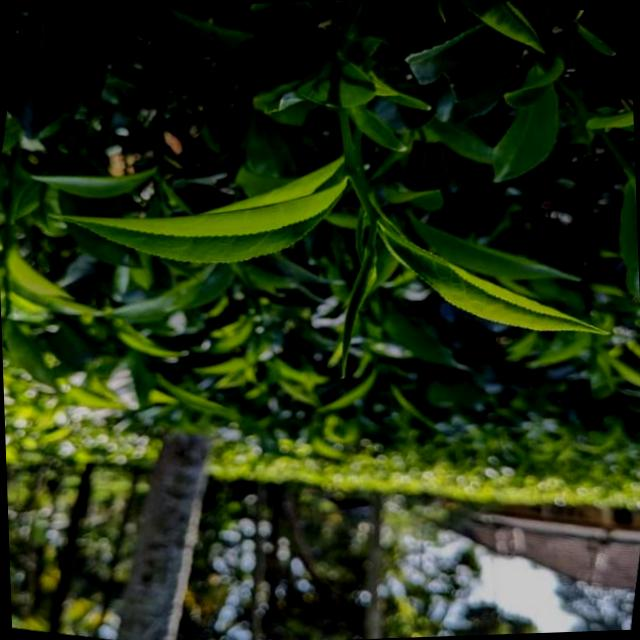Stem: (342, 159, 357, 172)
